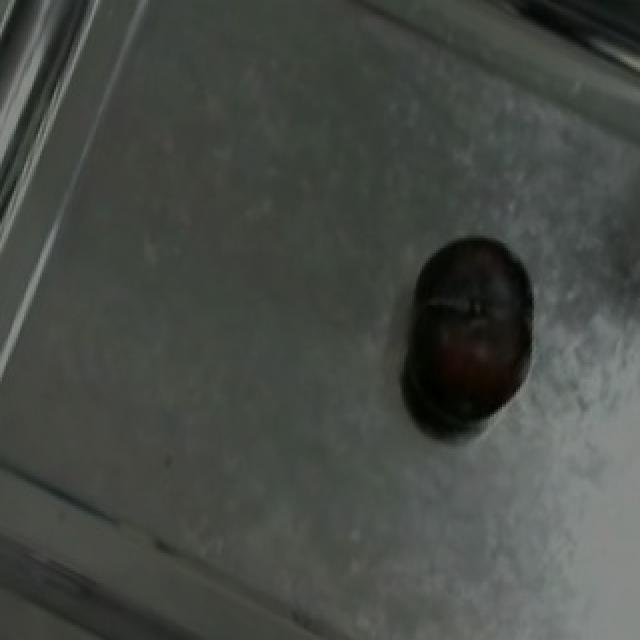Fruit: (396, 295, 544, 439), (402, 216, 546, 347)
